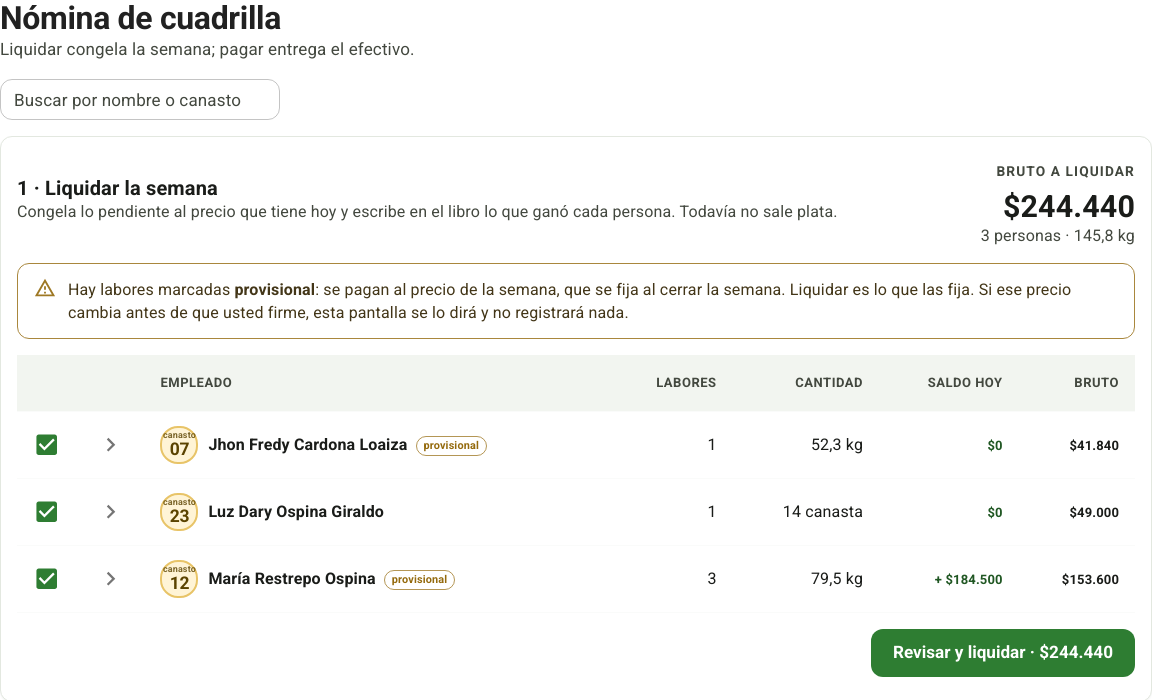
Test: see it before you sign it › shows who is getting paid, how much, why, and the farm's total
The width and height of the screenshot is (1152, 700).
Expected: the heading "1 · Liquidar la semana" is shown, [17,176,218,200]
Expected: the text "$244.440" is shown, [1003,189,1135,224]
Step 1. Click the button named "Ver el detalle de María" → coordinates (110, 579), box [88,557,132,601]
(page scrolled)
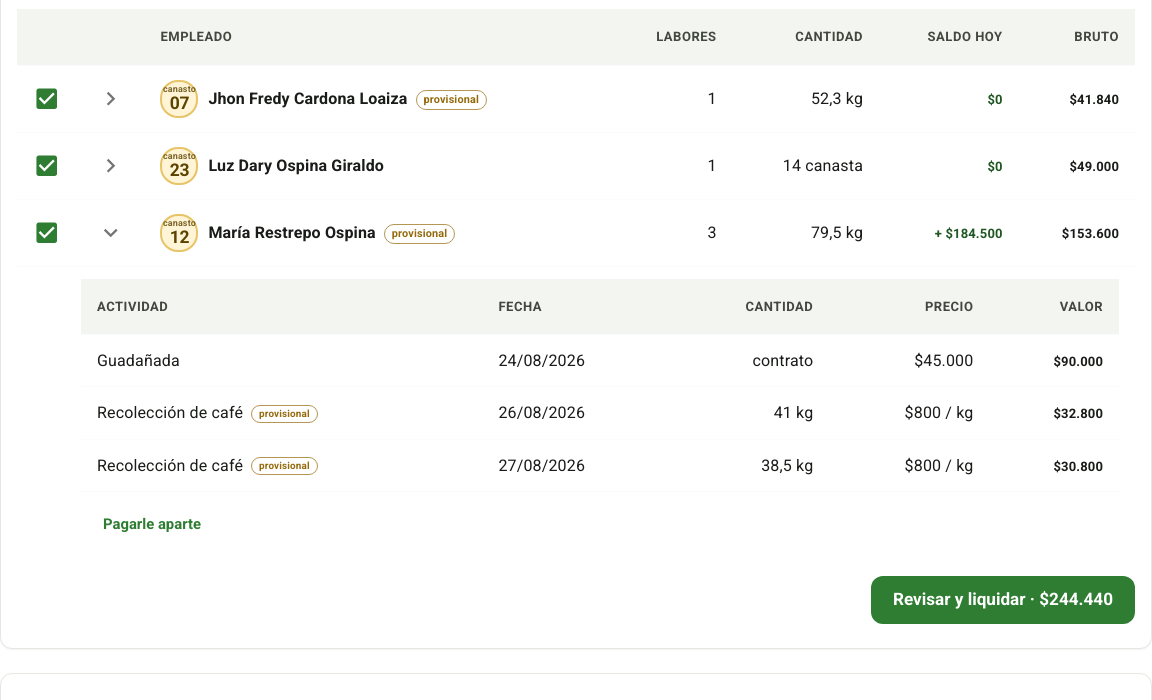
Expected: the text "$800 / kg" is shown 2 times, [829,387,989,439]; [829,439,989,491]
Expected: the text "38,5 kg" is shown, [671,439,829,491]
Expected: the text "$45.000" is shown, [829,335,989,387]
